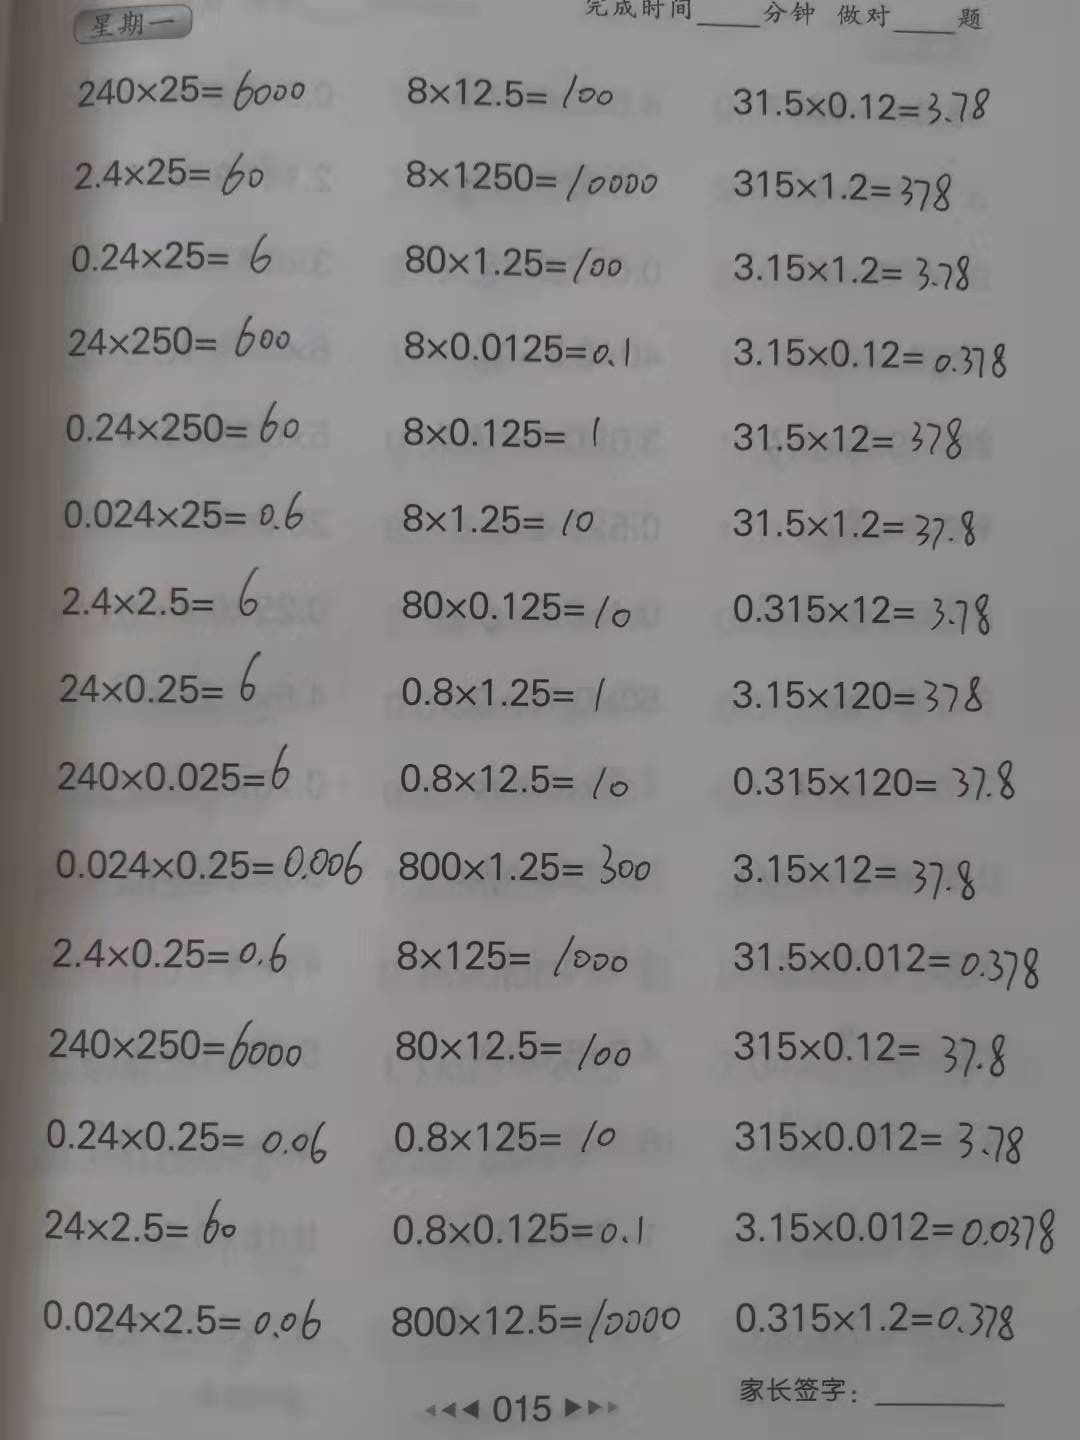equation: (719, 1198, 1068, 1264), (727, 1016, 1026, 1090), (719, 1109, 1058, 1174), (719, 571, 1001, 647), (724, 934, 1052, 998), (37, 1106, 334, 1174), (726, 1288, 1026, 1354), (380, 1288, 699, 1349), (725, 841, 993, 914), (35, 1287, 334, 1349), (725, 749, 1033, 810), (41, 1014, 317, 1081), (47, 835, 373, 890), (382, 1198, 655, 1261), (724, 328, 1016, 386), (390, 752, 638, 816), (728, 70, 997, 129), (723, 669, 1001, 726), (54, 483, 322, 541), (54, 736, 301, 798), (723, 407, 970, 468), (42, 922, 298, 981), (733, 495, 989, 554), (397, 579, 643, 641), (395, 842, 670, 897), (66, 63, 319, 122), (393, 155, 665, 210), (391, 925, 646, 983), (50, 652, 280, 715), (62, 308, 301, 369), (390, 1017, 641, 1074), (725, 156, 956, 217), (395, 320, 644, 374), (383, 1107, 623, 1163), (722, 244, 974, 297), (396, 236, 628, 293), (53, 399, 311, 449), (66, 225, 288, 281), (397, 403, 615, 459), (389, 488, 606, 543), (54, 569, 290, 619), (69, 144, 264, 204), (395, 664, 619, 715), (43, 1198, 244, 1255), (397, 70, 628, 118)
